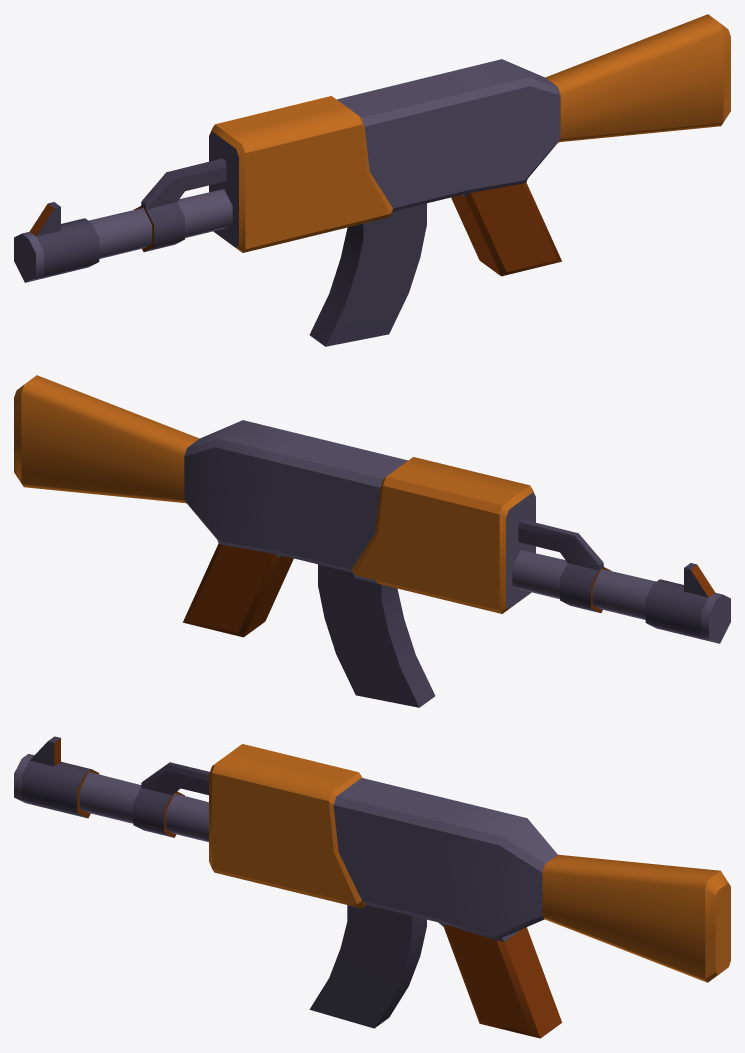
File: Rifle.fbx
3 views of the same model, one above another, from view 1: azimuth 30°, elevation 25°; view 2: azimuth 150°, elevation 25°; view 3: azimuth 330°, elevation 25° (orthographic).
Parts seen in each view (by area): view 1: Rifle_Gun_01a; view 2: Rifle_Gun_01a; view 3: Rifle_Gun_01a.
Boxes of the visible parts, x1=… form: Rifle_Gun_01a: x1=14, y1=14, x2=730, y2=346; Rifle_Gun_01a: x1=14, y1=375, x2=730, y2=707; Rifle_Gun_01a: x1=14, y1=736, x2=730, y2=1038.
Size of the model in its own units: 145 by 46.16 by 11.99.
